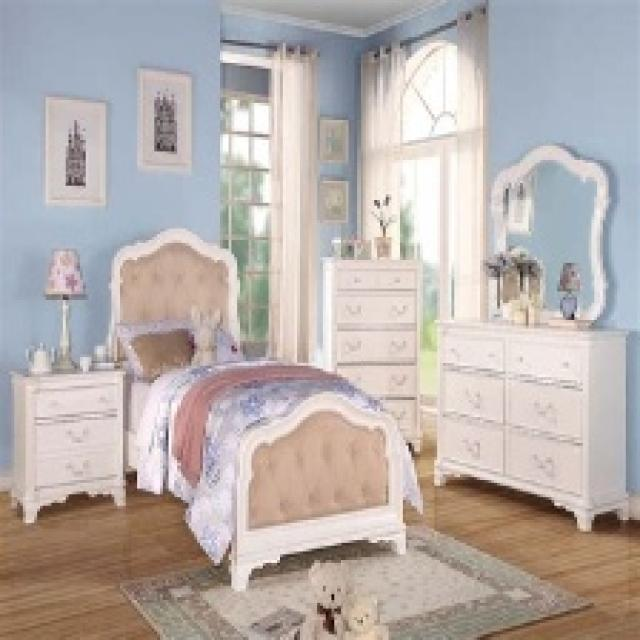Bed: (106, 226, 423, 591)
